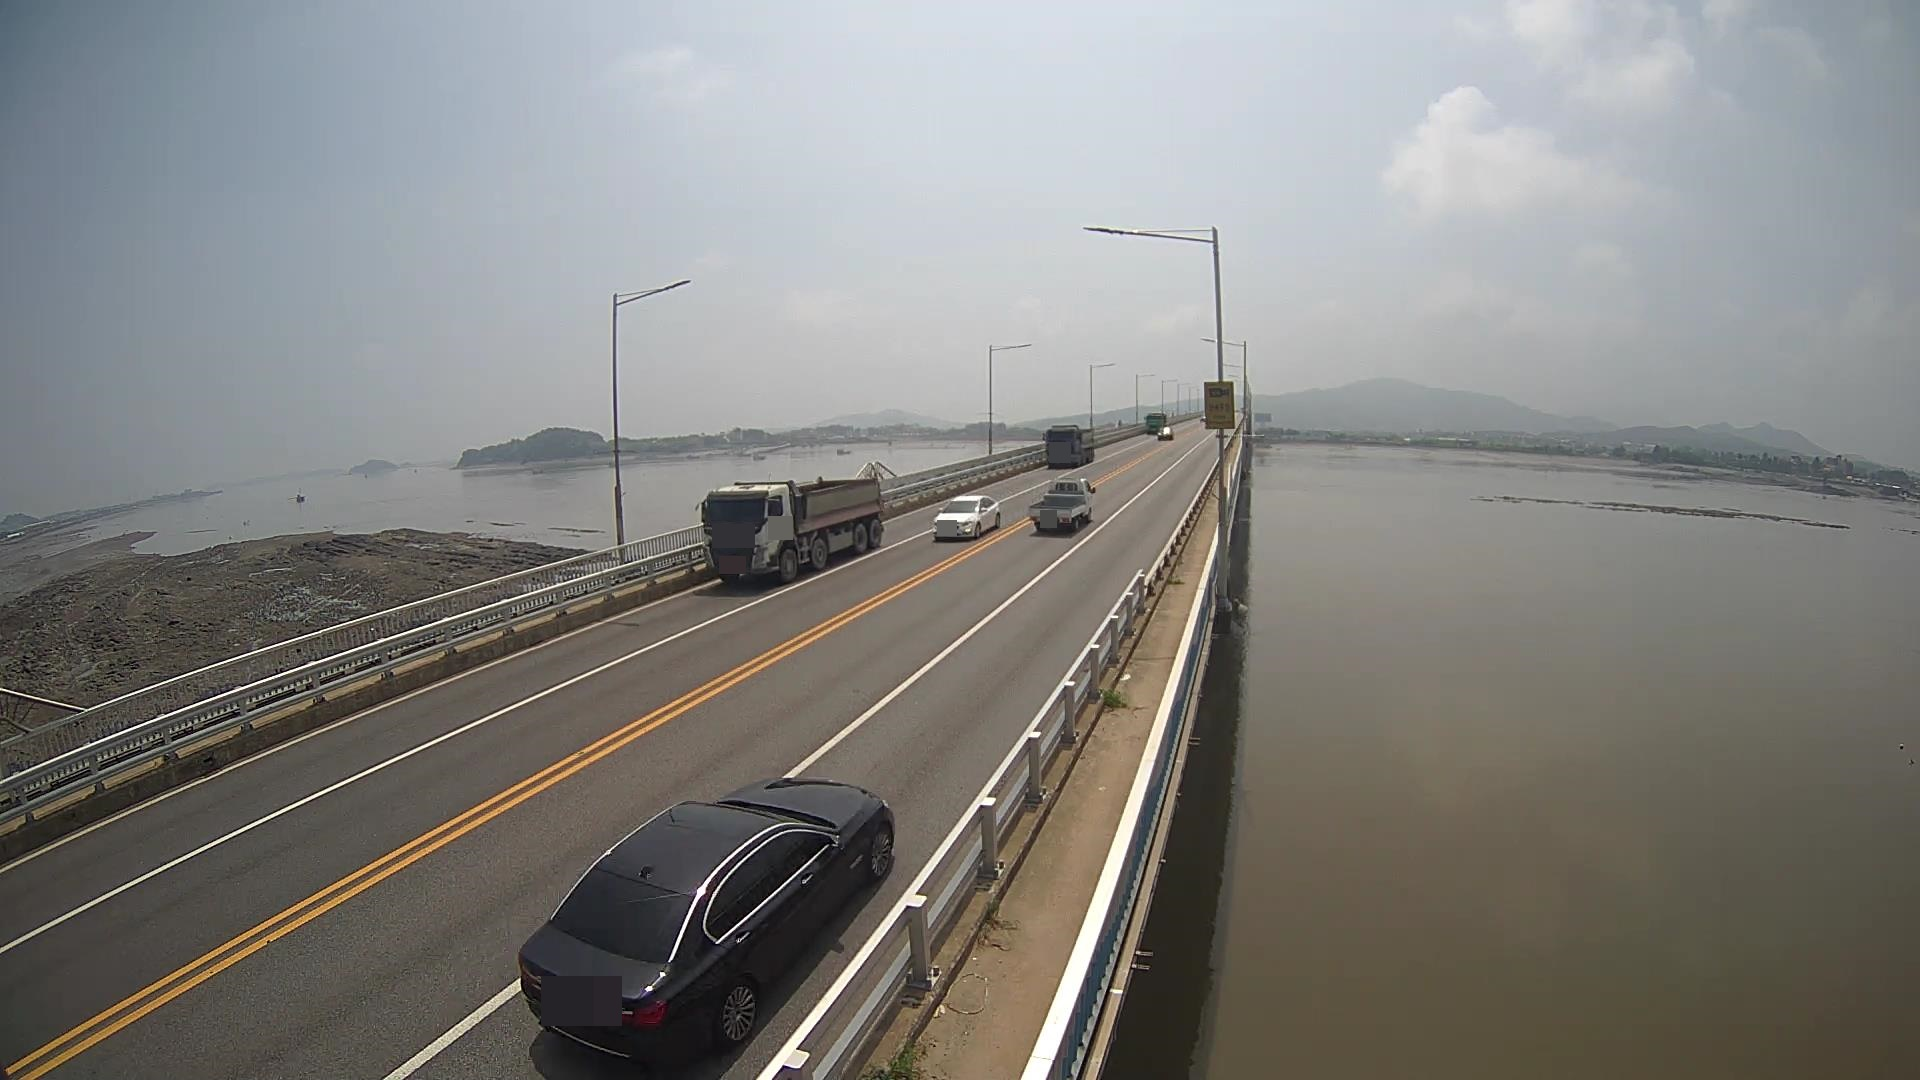정상차량: (696, 471, 884, 585)
